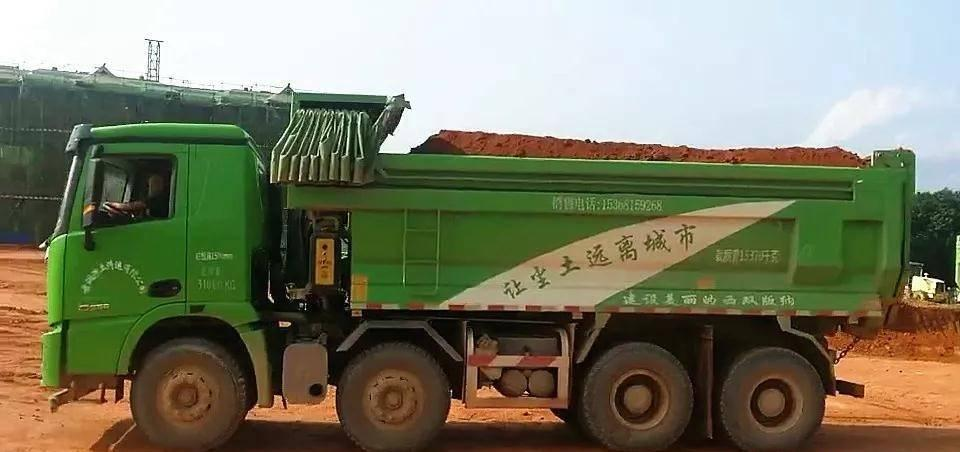truck: (29, 71, 918, 451)
